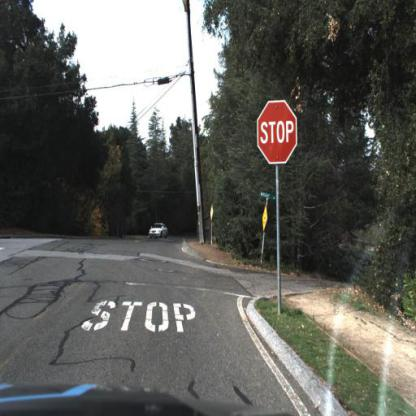car: (148, 224, 170, 240)
